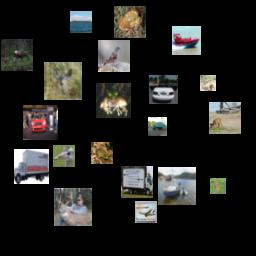airplane: (135, 201, 157, 223)
automobile: (23, 105, 58, 140), (149, 75, 178, 104)
bird: (98, 40, 130, 72), (53, 145, 75, 167)
deer: (54, 188, 92, 226), (44, 62, 82, 100), (209, 102, 241, 134), (1, 39, 33, 71), (210, 178, 226, 194)
frog: (96, 83, 131, 118), (114, 6, 146, 38), (91, 142, 113, 164), (200, 75, 216, 91)
ship: (158, 167, 196, 205), (172, 26, 201, 55), (70, 11, 92, 33)
truck: (14, 149, 49, 184), (121, 166, 153, 198), (148, 117, 167, 136)
